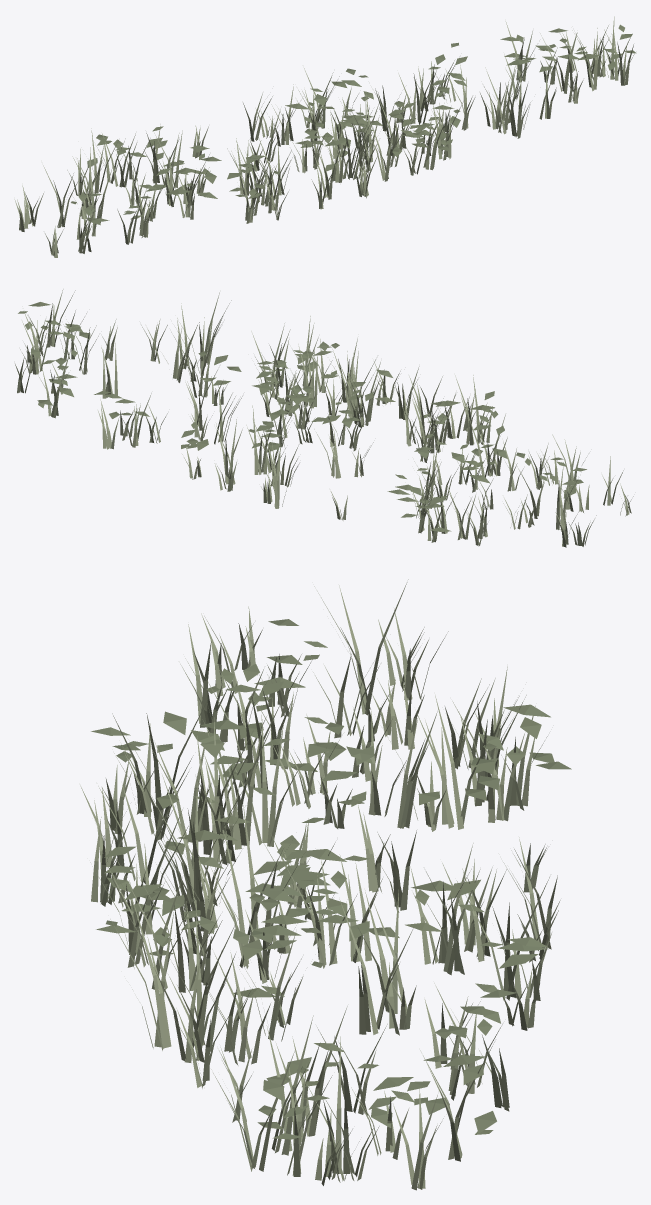
Rendered from AE_Encroachment_11.fbx.
3 views of the same model, one above another, from view 1: azimuth 30°, elevation 25°; view 2: azimuth 150°, elevation 25°; view 3: azimuth 270°, elevation 25° (orthographic). The views are drawn at different scales.
Parts seen in each view (by area): view 1: AE_Encroachment_11_LOD0; view 2: AE_Encroachment_11_LOD0; view 3: AE_Encroachment_11_LOD0.
Boxes of the visible parts, <box> form: AE_Encroachment_11_LOD0: <box>14,16,636,257</box>; AE_Encroachment_11_LOD0: <box>15,289,633,547</box>; AE_Encroachment_11_LOD0: <box>80,579,571,1190</box>.
Size of what is drawn, in the model's own units: 975 by 155 by 346.
